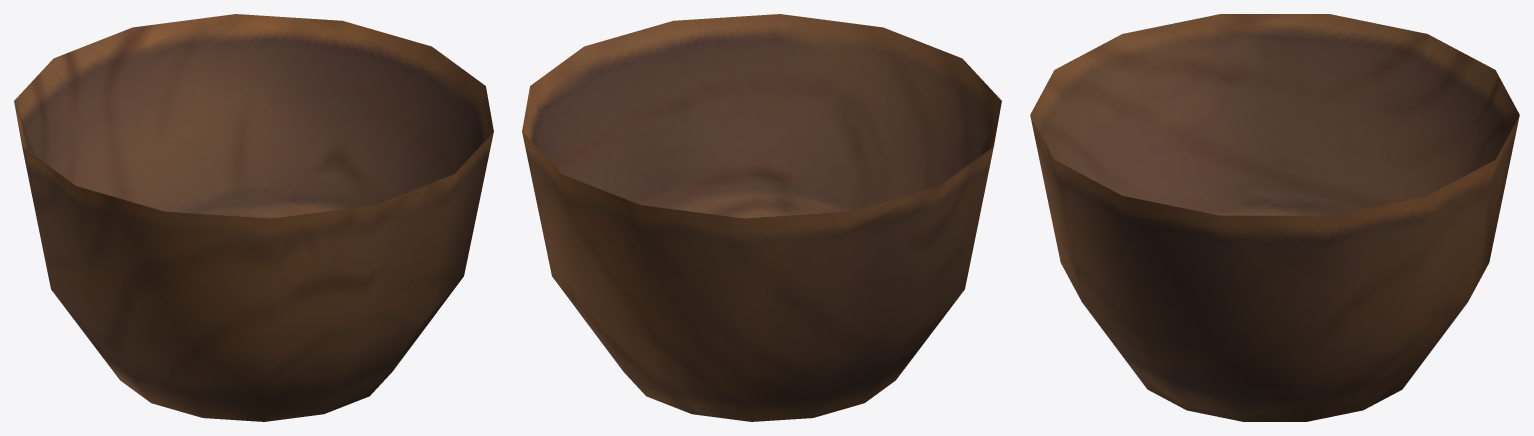
Rendered from plate_wood1.fbx.
3 views of the same model, side by side, from view 1: azimuth 30°, elevation 25°; view 2: azimuth 150°, elevation 25°; view 3: azimuth 270°, elevation 25° (orthographic).
Visible parts, largest first — view 1: plate_wood1; view 2: plate_wood1; view 3: plate_wood1.
Boxes of the visible parts, x1=… form: plate_wood1: x1=14, y1=14, x2=493, y2=421; plate_wood1: x1=522, y1=14, x2=1001, y2=421; plate_wood1: x1=1030, y1=14, x2=1519, y2=421.
Bounding box in the file's own units: 21.74 × 12.5 × 22.3.
